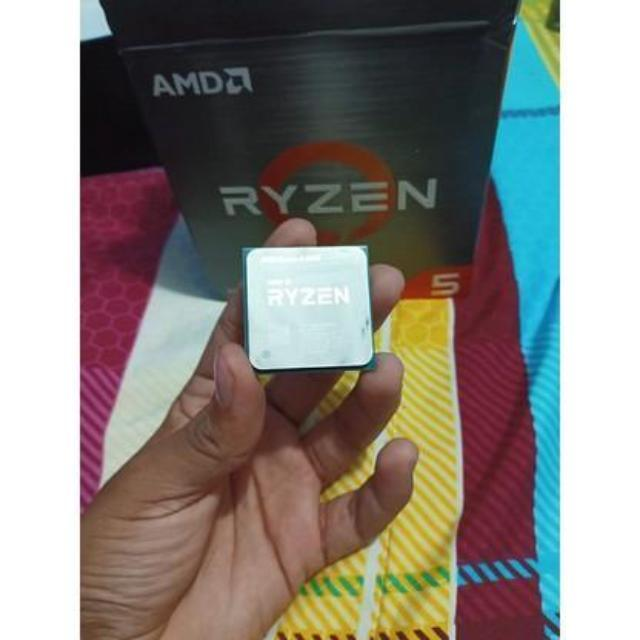CPU: (237, 246, 380, 374)
